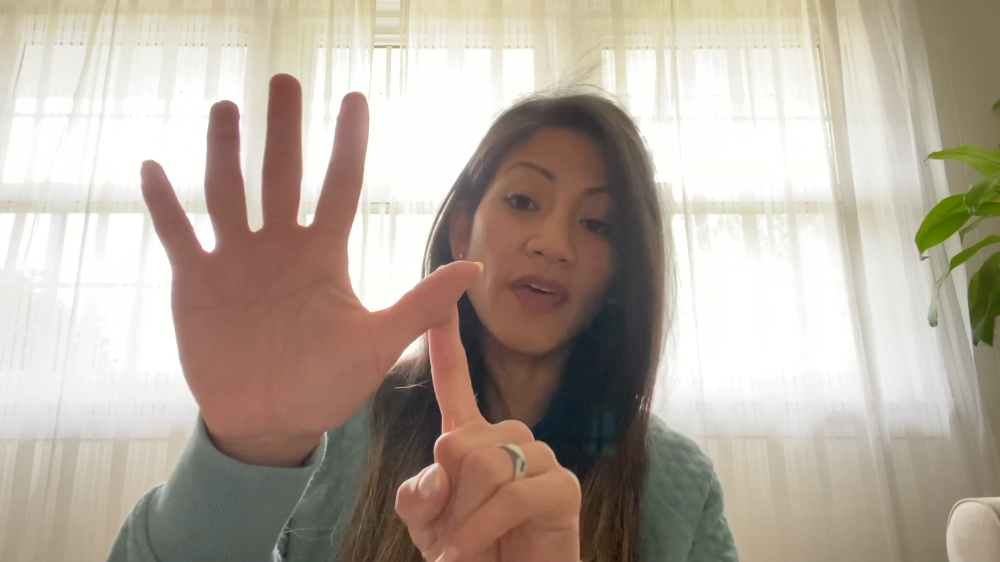hello: (139, 69, 483, 443)
